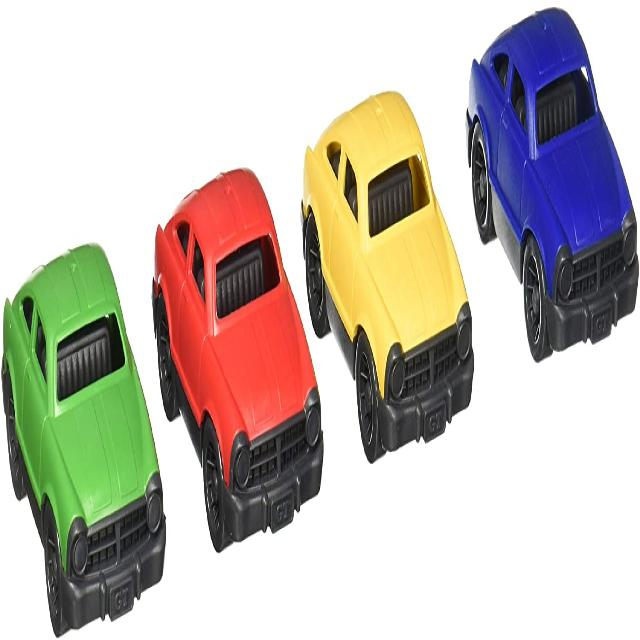Car: (151, 165, 324, 553), (300, 88, 474, 464), (1, 240, 166, 636), (465, 5, 639, 363)
